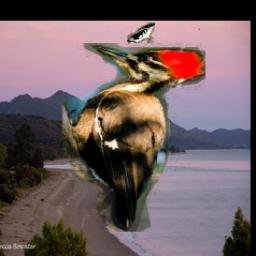Woodpecker: (57, 44, 205, 233), (127, 23, 155, 43)
